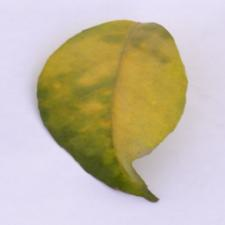Greening: (44, 39, 146, 160)
